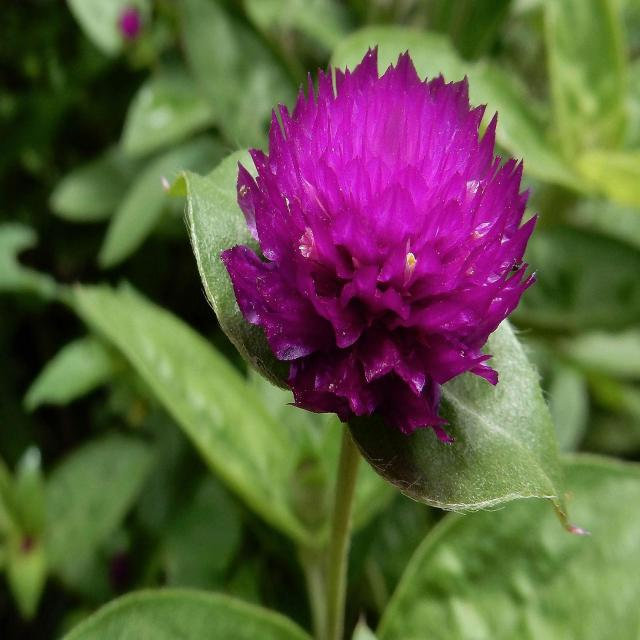organic waste: (227, 56, 543, 473)
